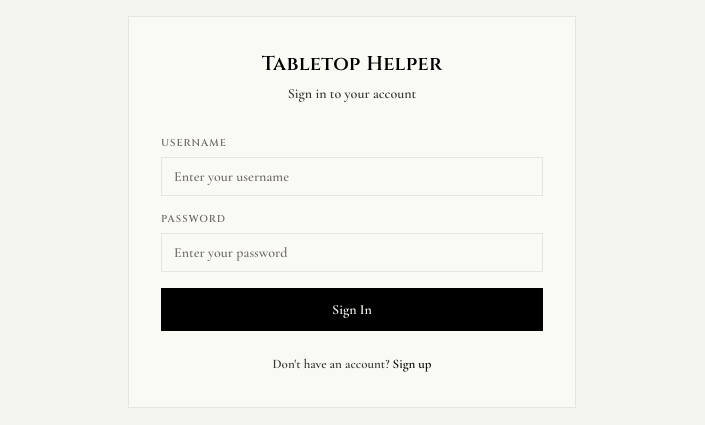
Test: Auth Integration › allows user to login and see role selection
The image size is (705, 425).
Type "testuser" into the field labelled "Username" at coordinates (352, 177), box left=161, top=157, right=543, bottom=196
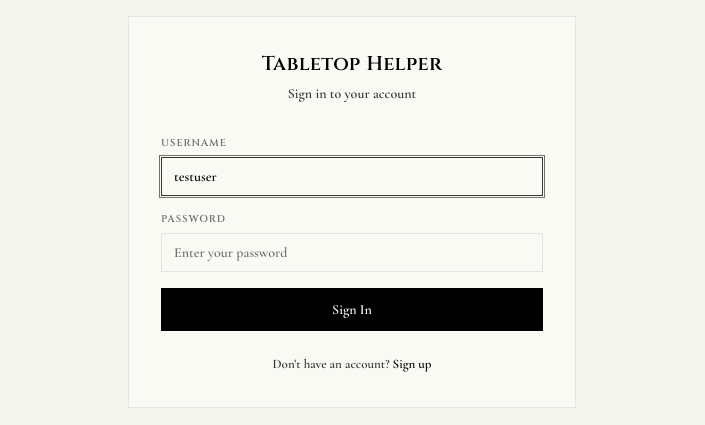
Type "password123" into the password field labelled "Password" at coordinates (352, 253), box left=161, top=233, right=543, bottom=272
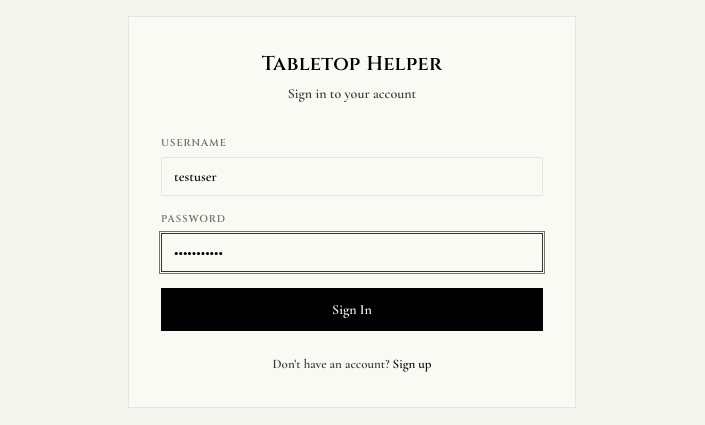
Click the button "Sign In" at coordinates (352, 310), box left=161, top=288, right=543, bottom=331
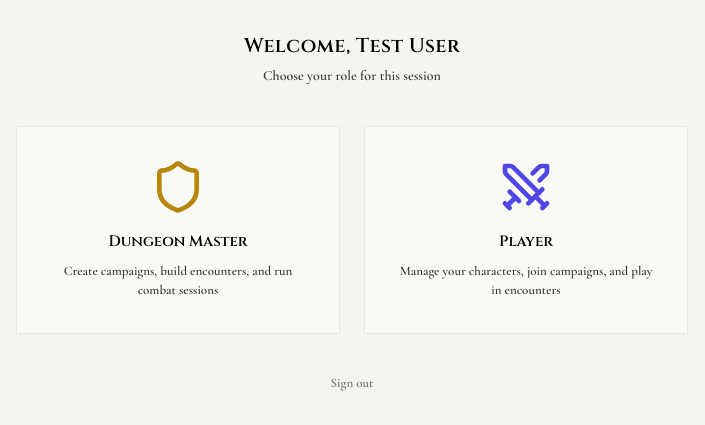
Result: the heading "Welcome, Test User" is shown at left=244, top=31, right=460, bottom=61
Result: the heading "Dungeon Master" is shown at left=108, top=231, right=247, bottom=252
Result: the heading "Player" is shown at left=499, top=231, right=553, bottom=252
